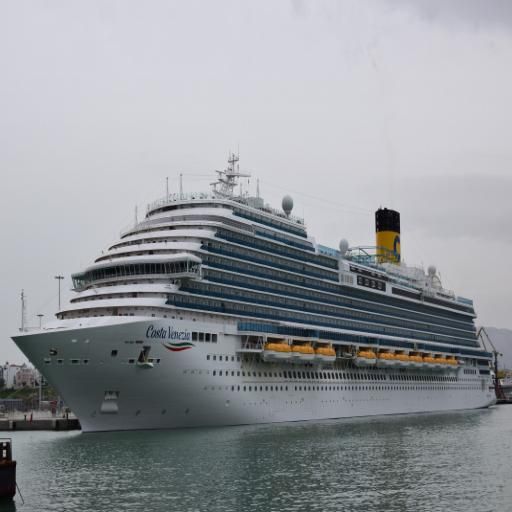cruises: (9, 155, 498, 440)
